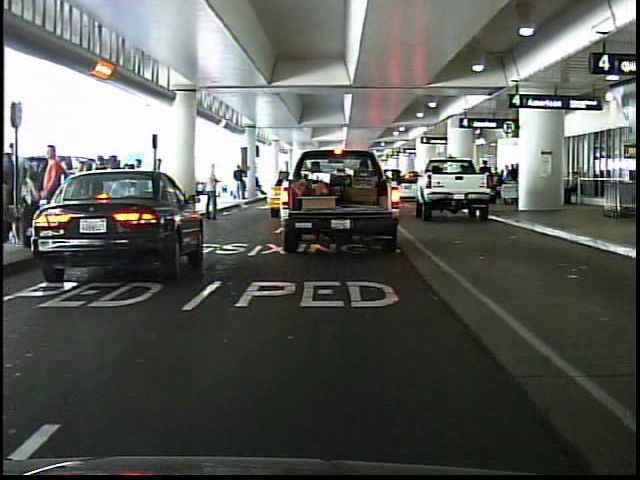person: (38, 141, 66, 251), (203, 160, 224, 222), (148, 154, 168, 217), (234, 162, 253, 199)
